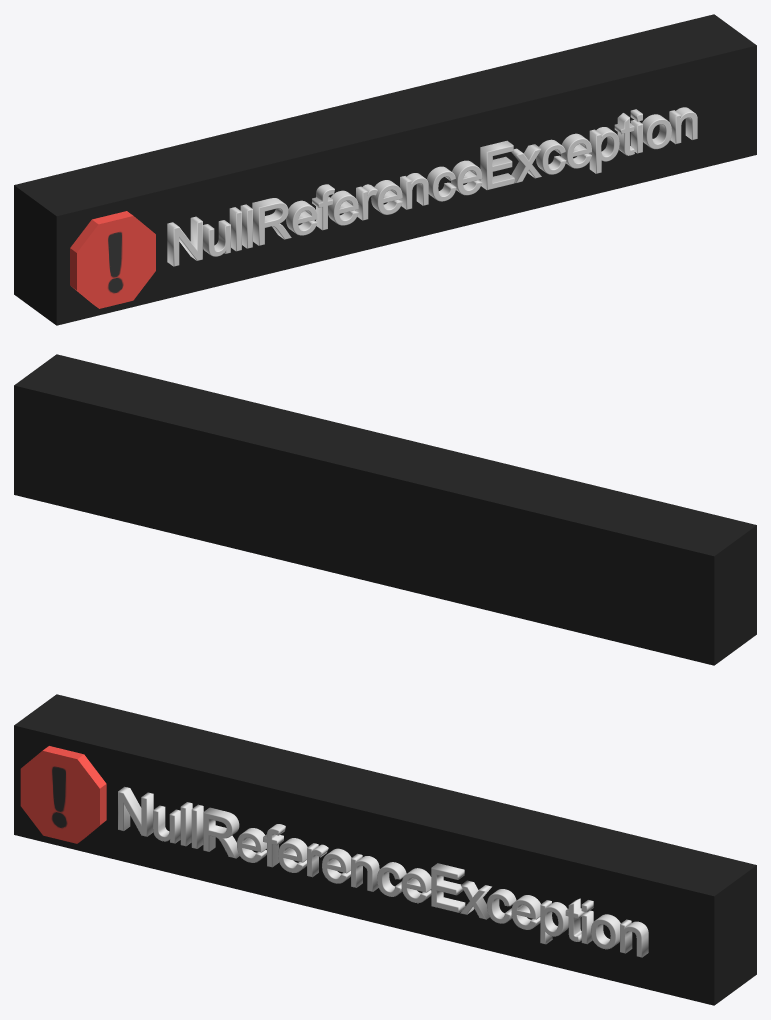
File: NullReferenceException.fbx
3 views of the same model, one above another, from view 1: azimuth 30°, elevation 25°; view 2: azimuth 150°, elevation 25°; view 3: azimuth 330°, elevation 25° (orthographic).
Parts seen in each view (by area): view 1: nooo1.001, NullReferenceException; view 2: nooo1.001; view 3: nooo1.001, NullReferenceException.
Boxes of the visible parts, left/top/right/bottom form: nooo1.001: left=14, top=14, right=756, bottom=325; NullReferenceException: left=167, top=107, right=697, bottom=266; nooo1.001: left=14, top=354, right=756, bottom=665; nooo1.001: left=14, top=694, right=756, bottom=1005; NullReferenceException: left=118, top=786, right=648, bottom=957.
Size of the model in its own units: 2646 by 395 by 323.
